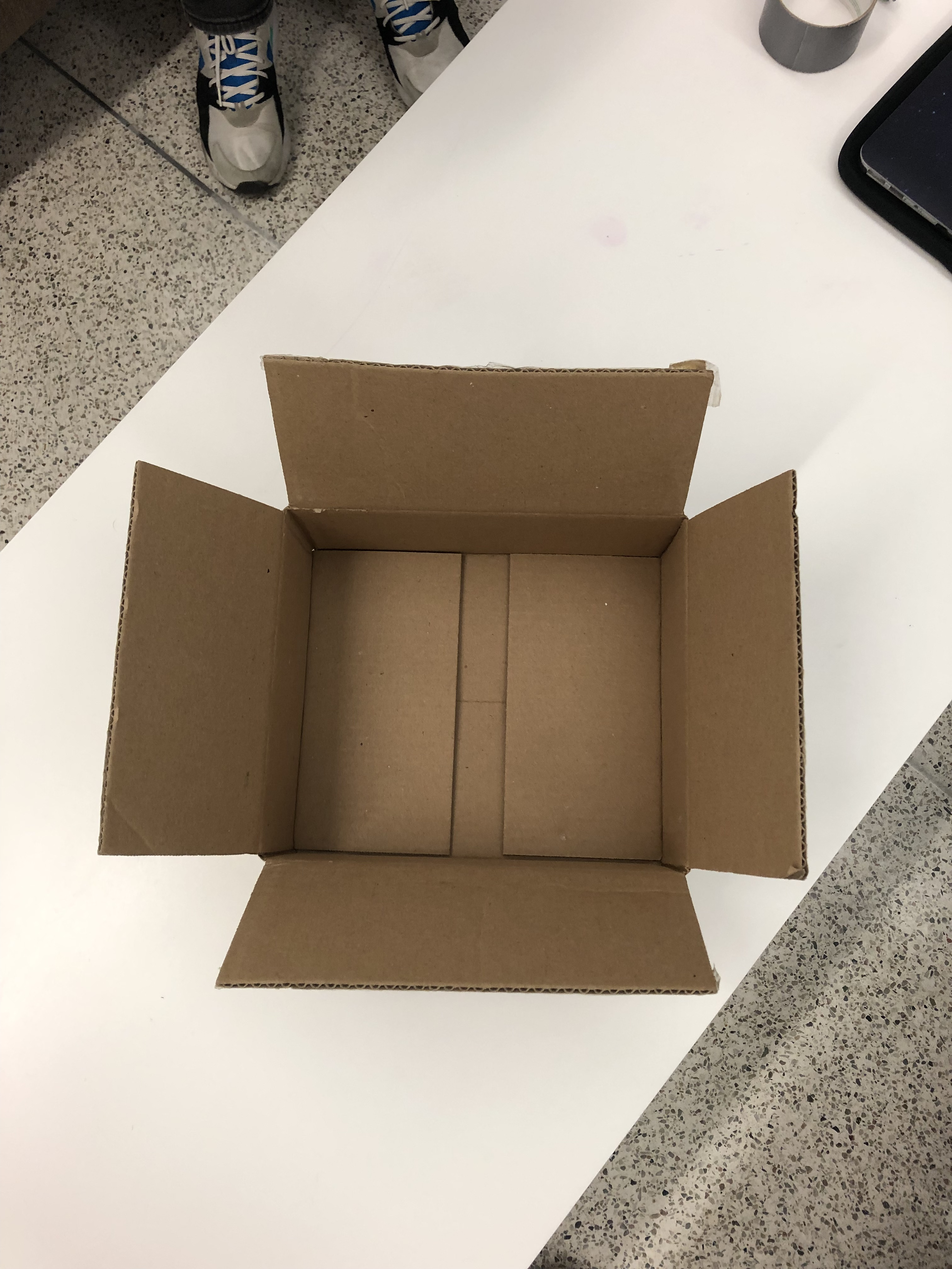box: (85, 349, 810, 997)
crushed: (85, 345, 807, 997)
